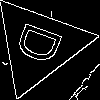D: (14, 20, 73, 71)
